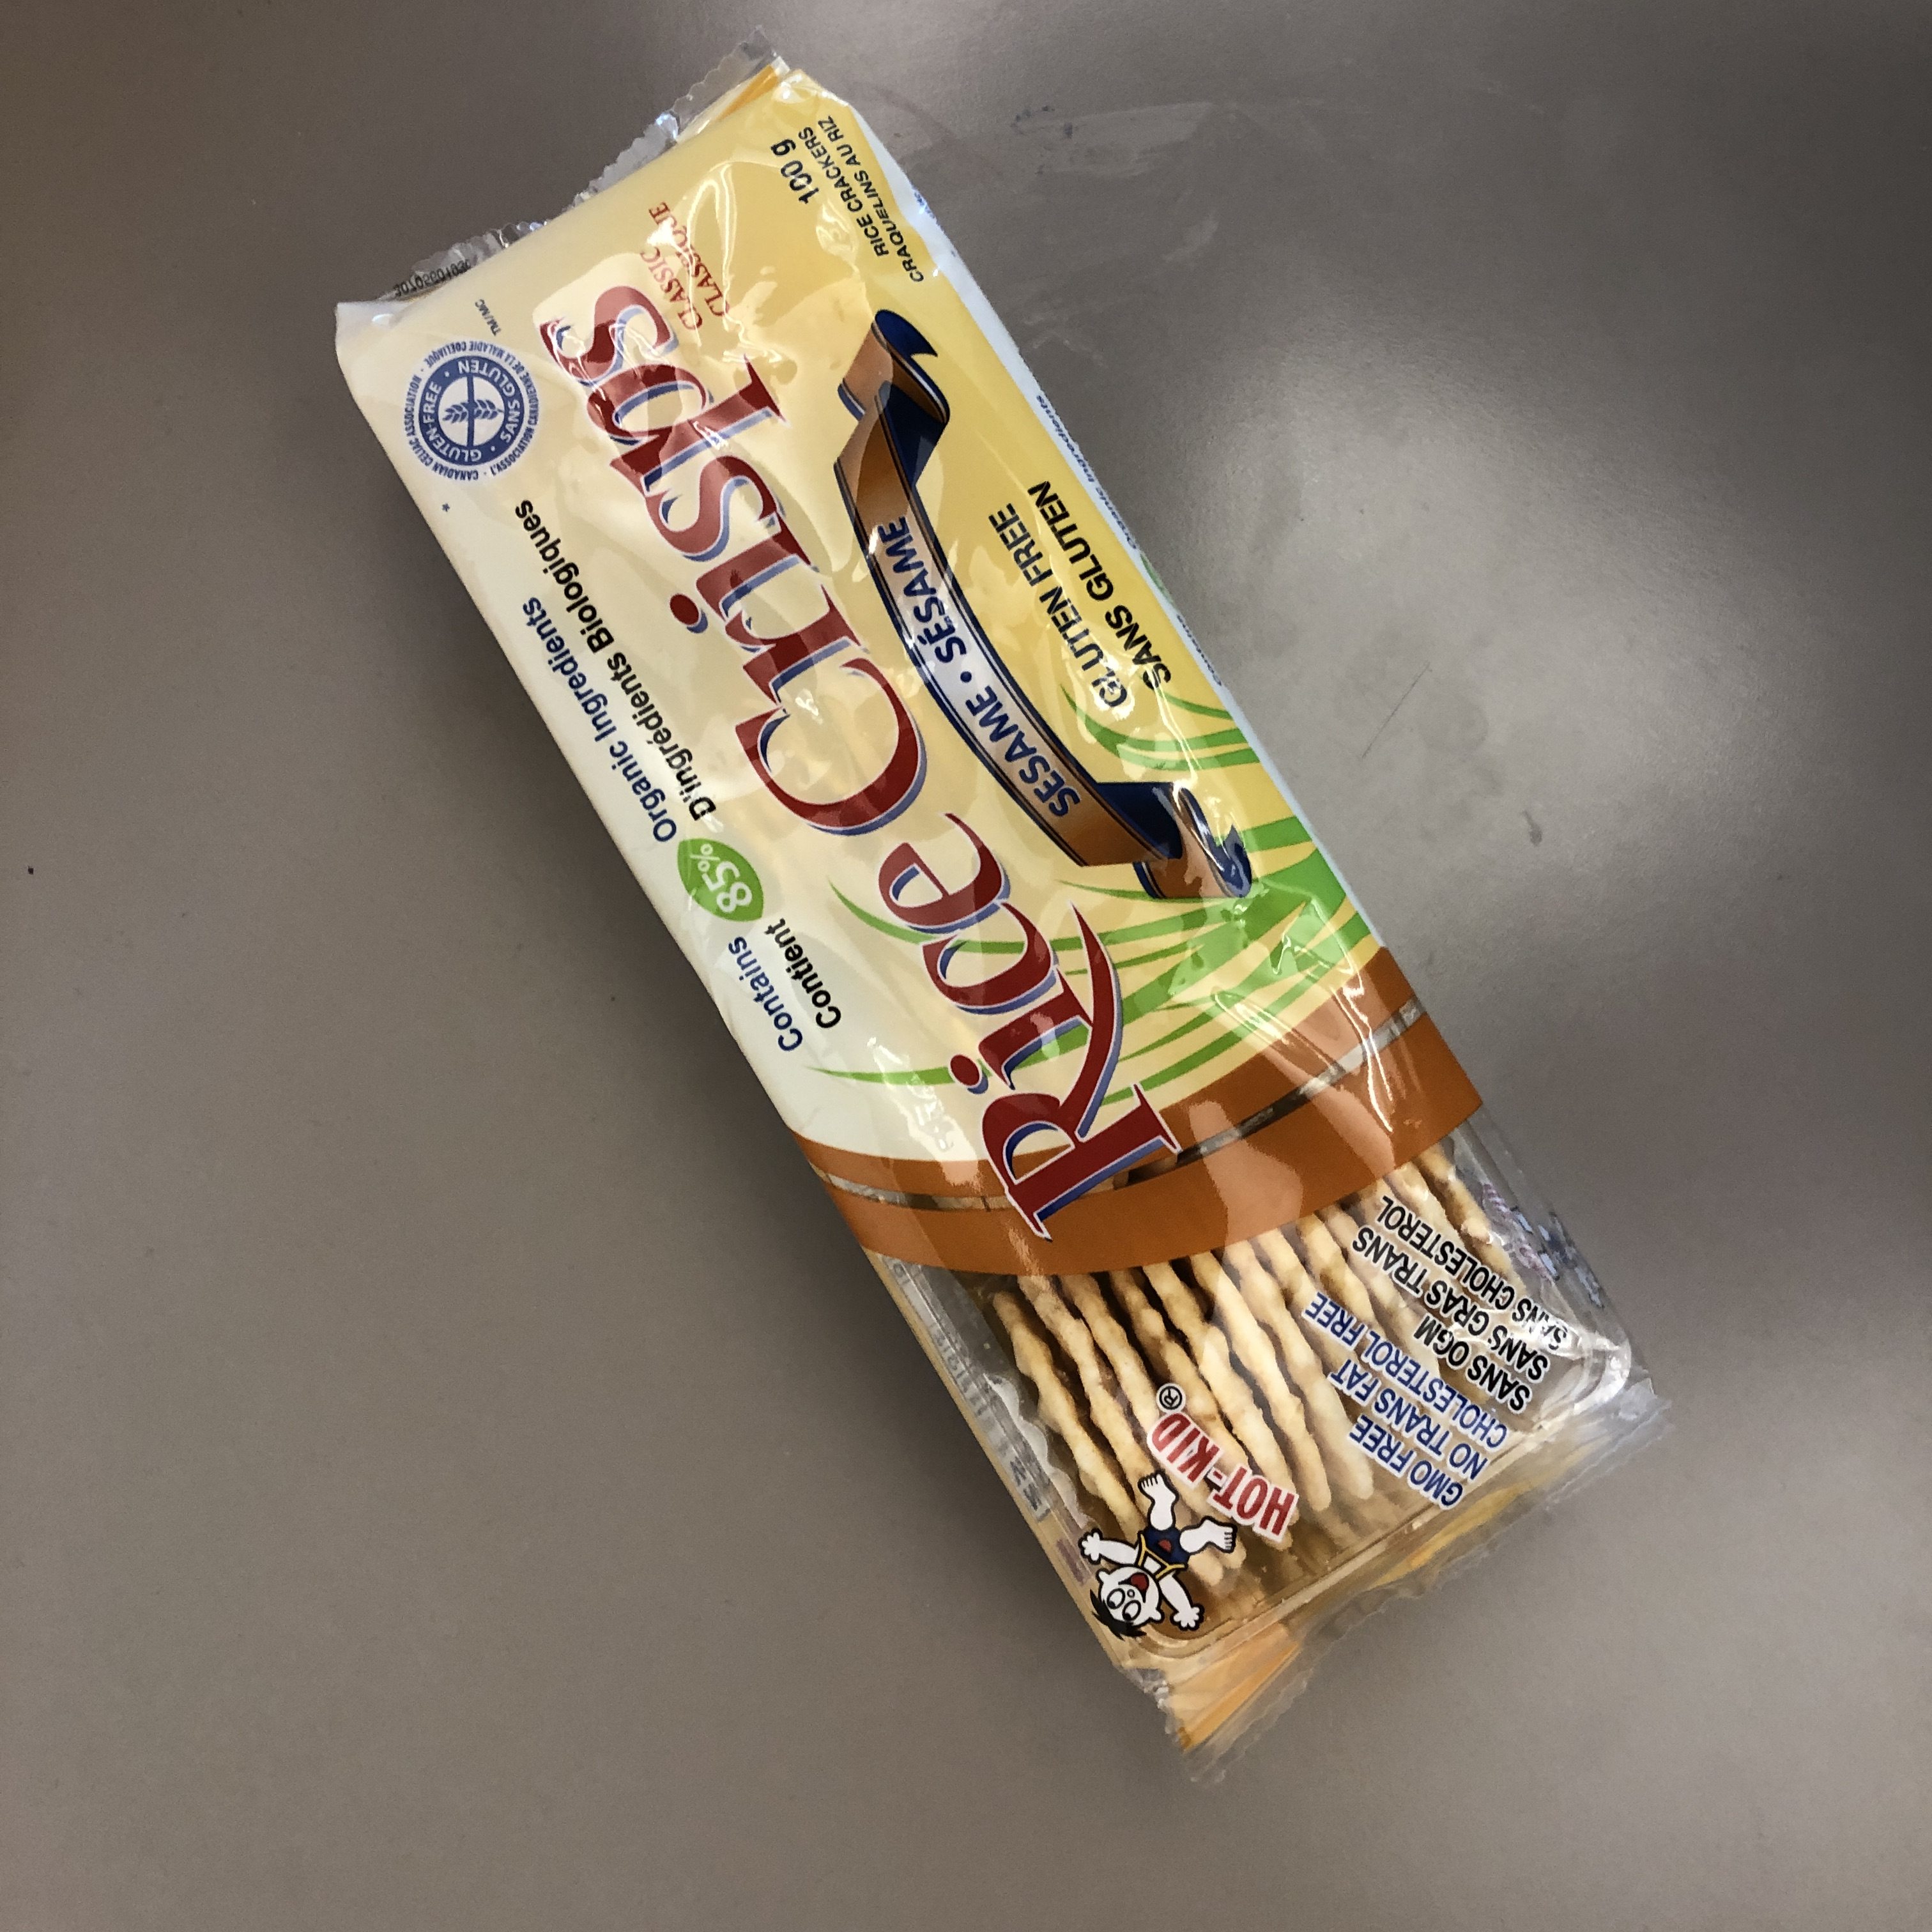hot_kid_rice_crisps_sesame: (217, 633, 1700, 1369)
